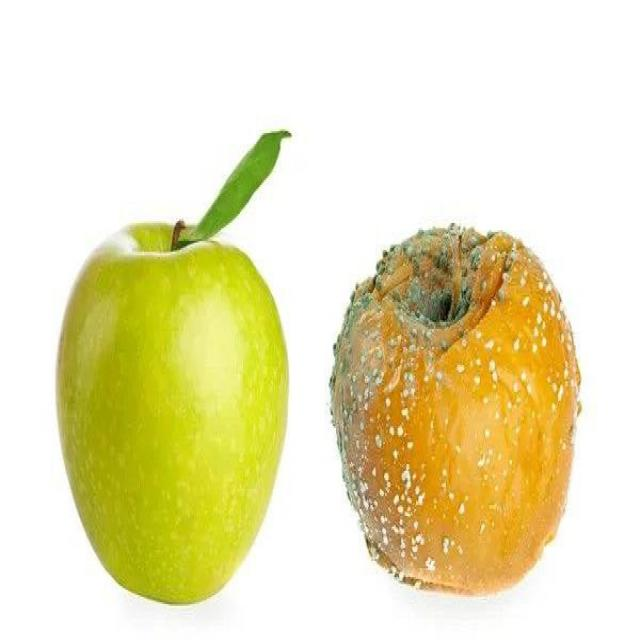fresh_apple: (56, 224, 291, 608)
rotten_apple: (330, 228, 579, 590)
